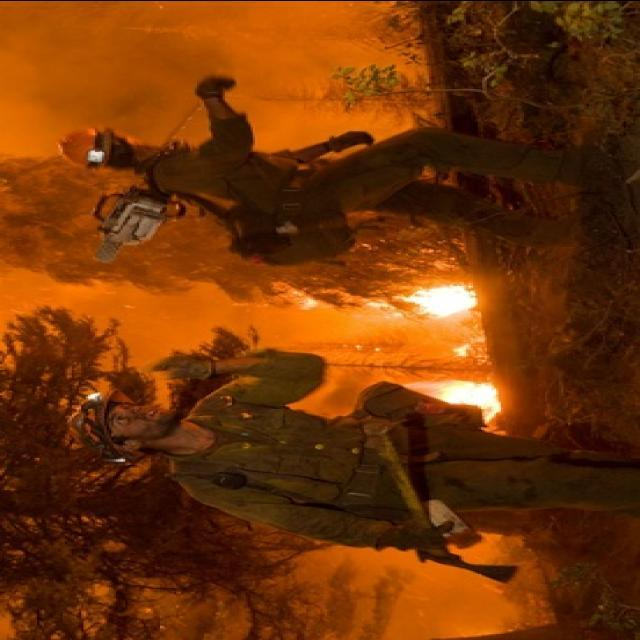Fire: (276, 274, 496, 422)
